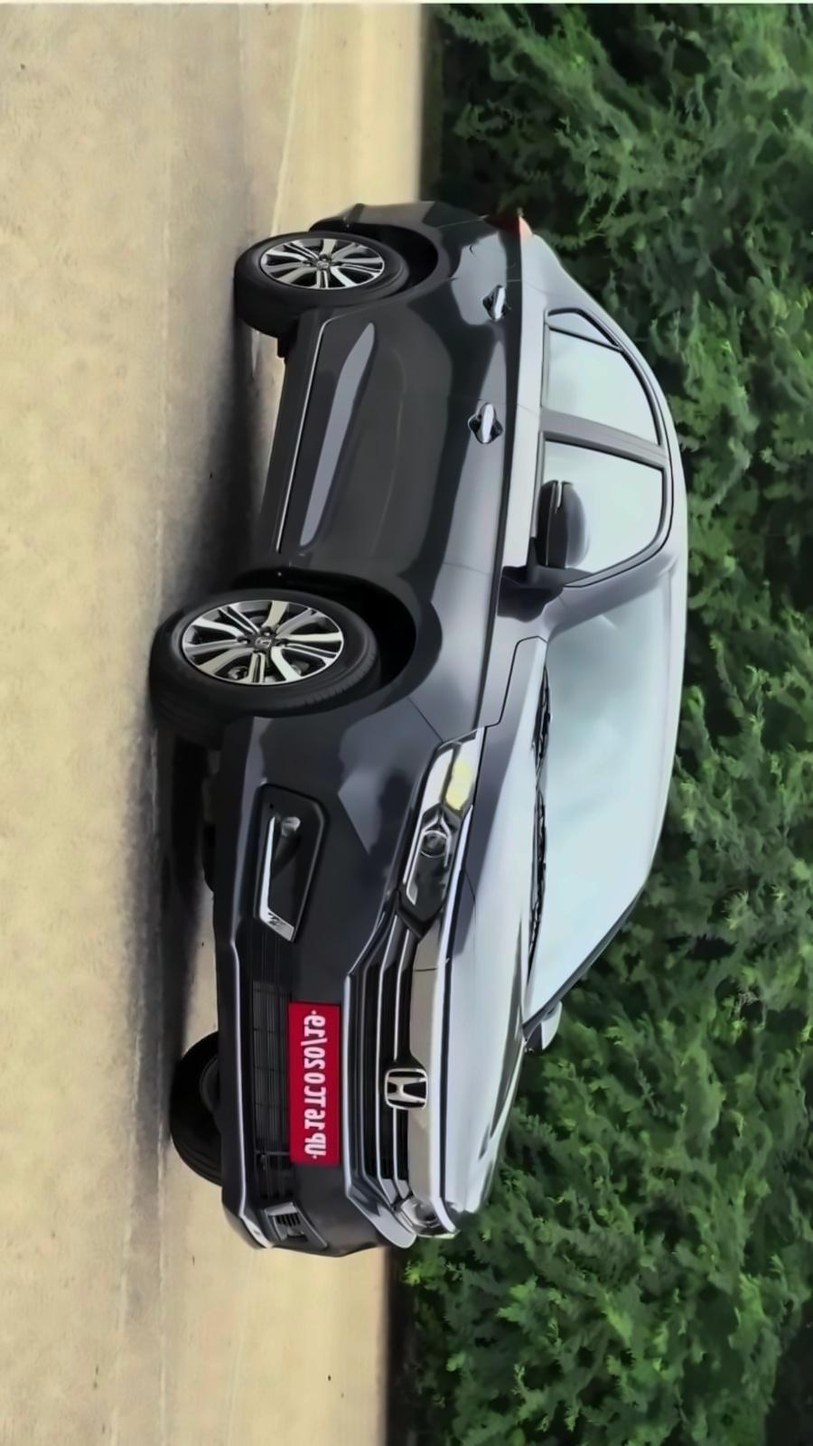Car hood: (434, 631, 543, 1222)
Driver-s door - -F-R-: (242, 411, 687, 612)
Fender - -F-R-: (206, 538, 543, 746)
Fender - -R-R-: (310, 188, 571, 337)
Front bumper: (185, 685, 444, 1263)
Headlight - -R-: (390, 723, 490, 941)
Passenger-s door - -R-R-: (244, 287, 681, 469)
Side bumper - -R-: (230, 292, 374, 588)
Side mirror - -R-: (497, 477, 589, 636)
